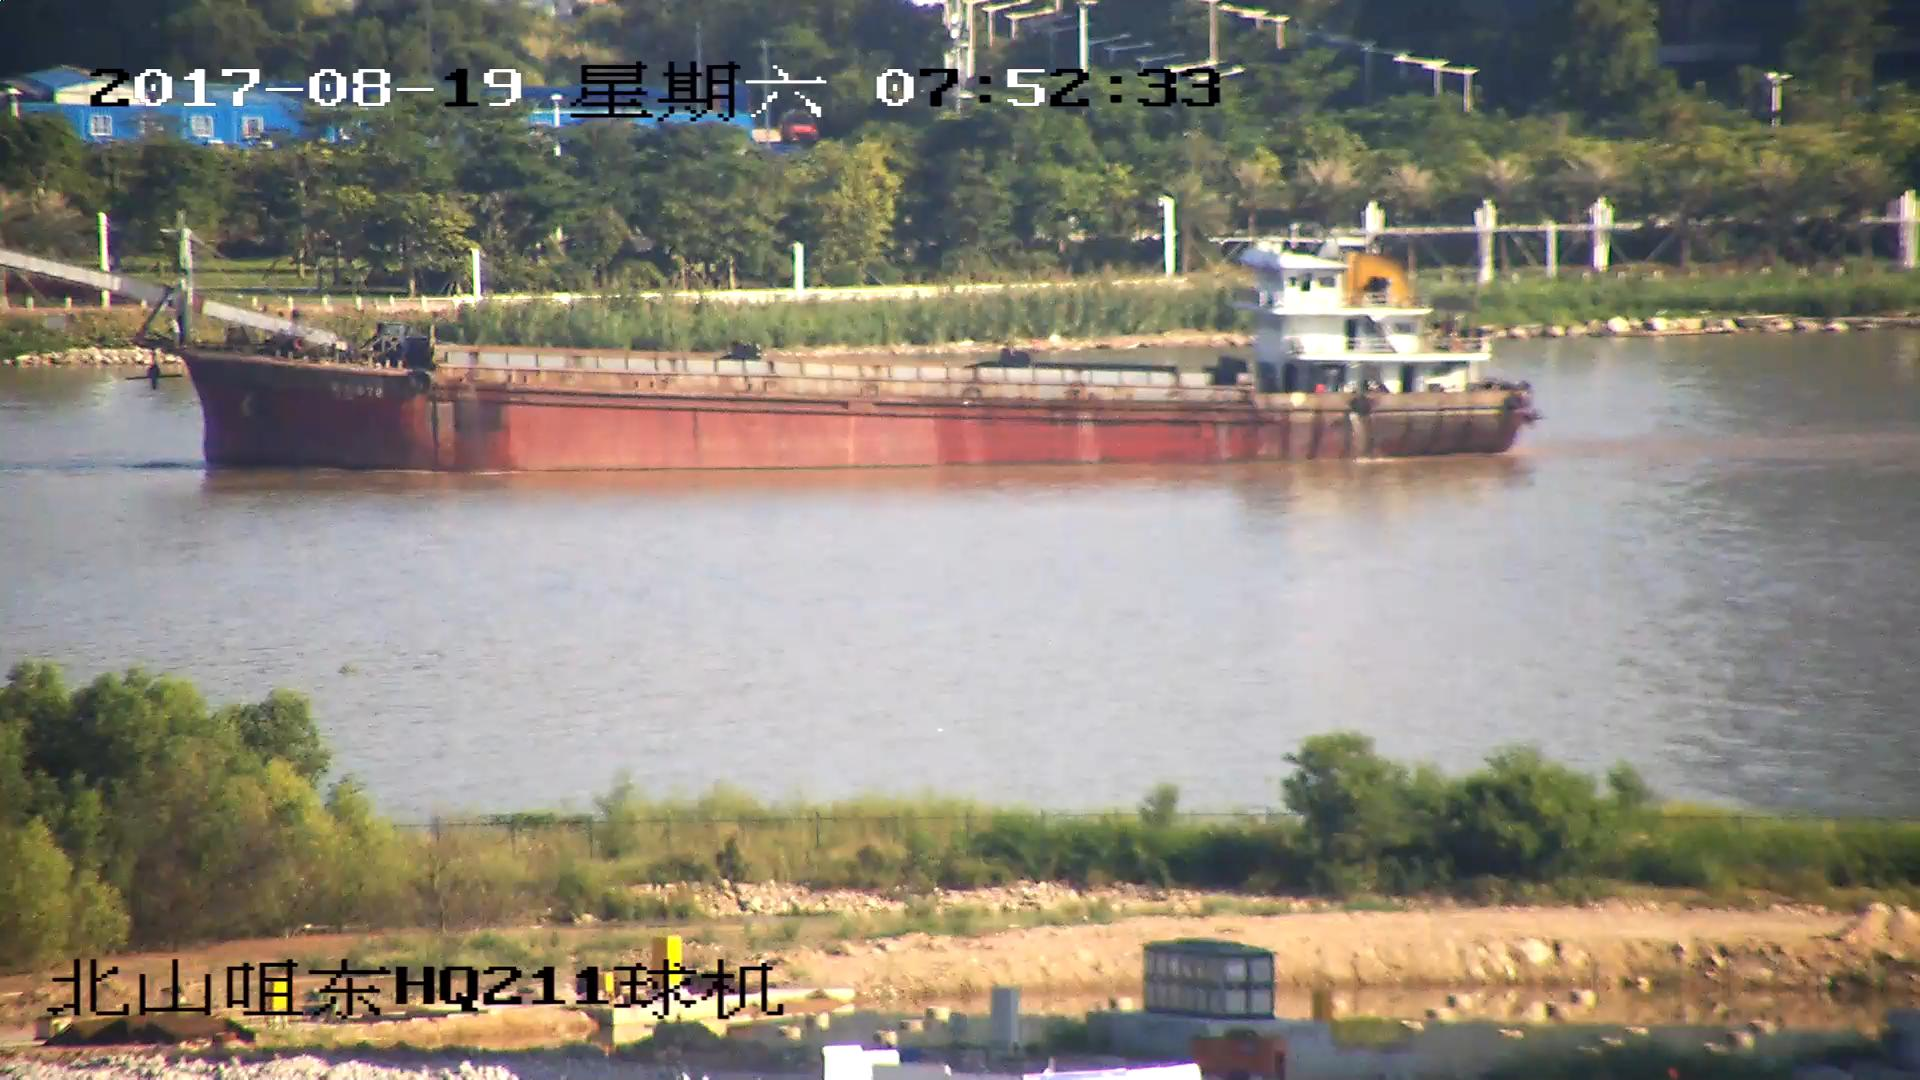bulk cargo carrier: (1, 241, 1537, 473)
